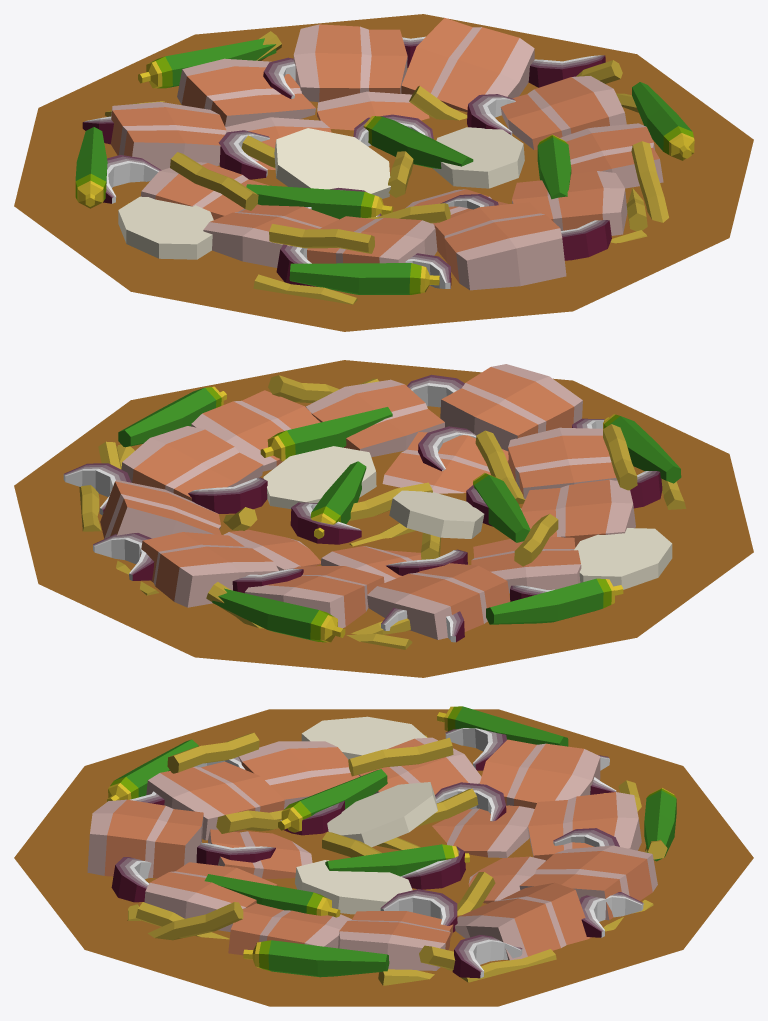
Rendered from Sinigang sa sampalok.fbx.
3 views of the same model, one above another, from view 1: azimuth 30°, elevation 25°; view 2: azimuth 150°, elevation 25°; view 3: azimuth 270°, elevation 25° (orthographic). The views are drawn at different scales.
Visible parts, largest first — view 1: Sinigang sa Sampalok; view 2: Sinigang sa Sampalok; view 3: Sinigang sa Sampalok.
Part boxes in pixels (left/top/right/bottom): Sinigang sa Sampalok: left=14, top=14, right=753, bottom=331; Sinigang sa Sampalok: left=14, top=360, right=753, bottom=677; Sinigang sa Sampalok: left=14, top=706, right=753, bottom=1006.
Size of the model in its own units: 93.1 by 15.78 by 97.89.
